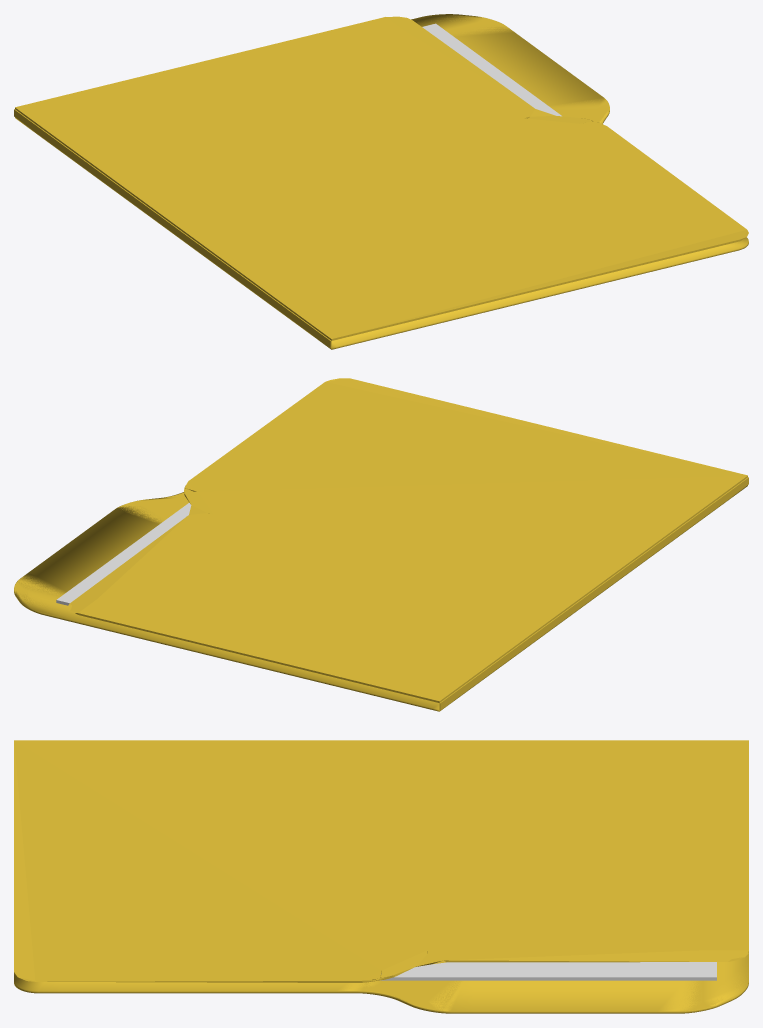
Rendered from portfolio(1)..glb.
The picture shows the model from 3 angles, top to bottom: view 1: azimuth 30°, elevation 25°; view 2: azimuth 150°, elevation 25°; view 3: azimuth 270°, elevation 25°; orthographic projection. The views are drawn at different scales.
Visible parts, largest first — view 1: cover, Portfolio, hinge, Whitepaper; view 2: cover, Portfolio, hinge, Whitepaper; view 3: cover, Portfolio, Whitepaper.
Boxes of the visible parts, <box> form: cover: <box>15,16,748,340</box>; Portfolio: <box>15,14,748,349</box>; hinge: <box>14,109,331,347</box>; Whitepaper: <box>422,23,561,116</box>; cover: <box>68,378,747,702</box>; Portfolio: <box>14,485,747,711</box>; hinge: <box>439,477,748,709</box>; Whitepaper: <box>56,502,191,605</box>; cover: <box>14,740,748,982</box>; Portfolio: <box>14,953,748,1013</box>; Whitepaper: <box>380,962,716,980</box>.
Bounding box in the file's own units: 25.68 × 0.57 × 30.5.
